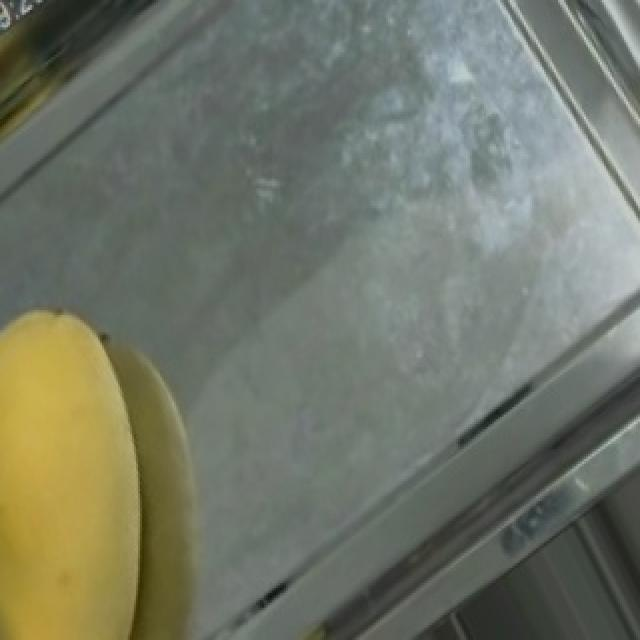fruit: (0, 270, 270, 640)
